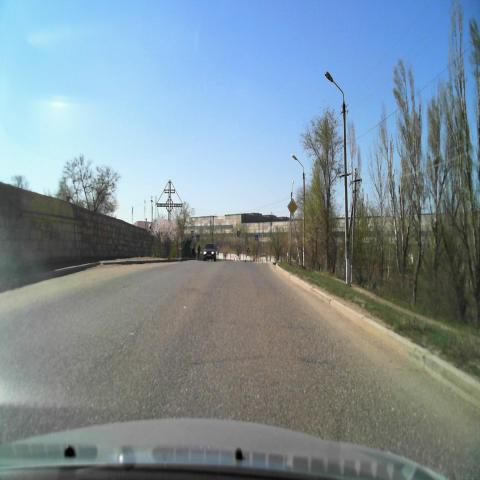2_1: (287, 198, 297, 216)
